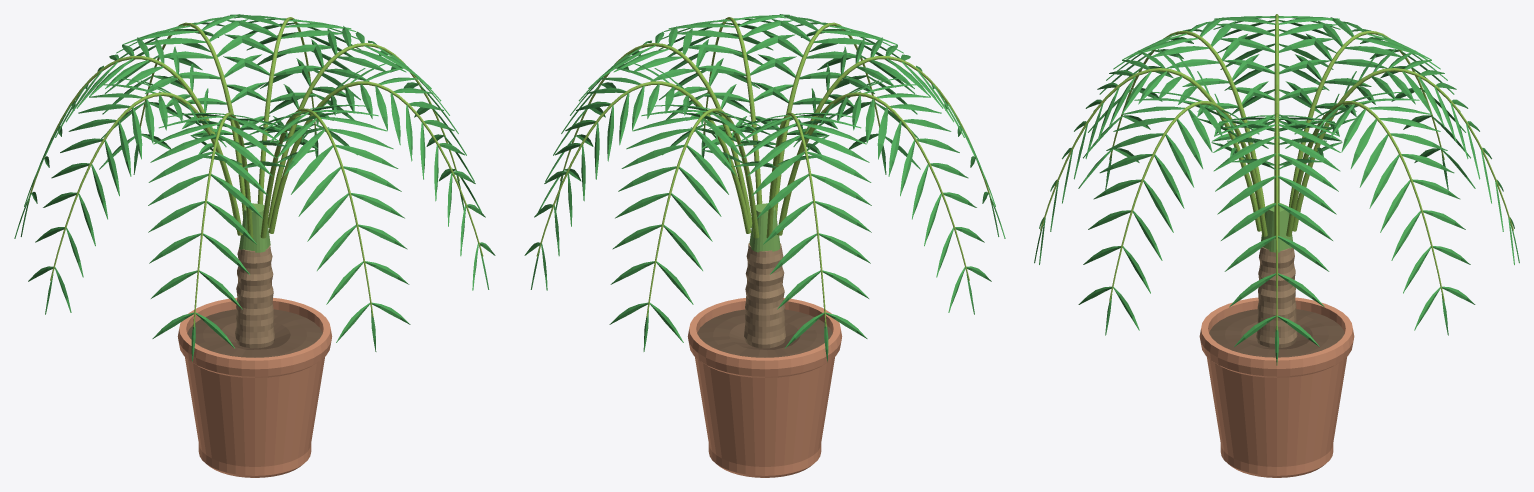
The picture shows the model from 3 angles, left to right: view 1: azimuth 30°, elevation 25°; view 2: azimuth 150°, elevation 25°; view 3: azimuth 270°, elevation 25°; orthographic projection.
Parts seen in each view (by area): view 1: Pot, FrondLeaflets_5, FrondLeaflets_6, FrondLeaflets_4, FrondLeaflets_1, FrondLeaflets_2, FrondLeaflets_7, Soil, Trunk, FrondLeaflets_0, FrondLeaflets_3, FrondStem_7 (+8 smaller); view 2: Pot, FrondLeaflets_3, FrondLeaflets_2, FrondLeaflets_4, FrondLeaflets_7, FrondLeaflets_6, Trunk, FrondLeaflets_1, Soil, FrondLeaflets_0, FrondLeaflets_5, FrondStem_1 (+8 smaller); view 3: Pot, FrondLeaflets_0, FrondLeaflets_7, FrondLeaflets_1, FrondLeaflets_4, FrondLeaflets_5, FrondLeaflets_3, Soil, Trunk, FrondLeaflets_6, FrondLeaflets_2, FrondStem_6 (+8 smaller).
Boxes of the visible parts, <box> form: Pot: <box>177,297,332,477</box>; FrondLeaflets_5: <box>148,112,286,361</box>; FrondLeaflets_6: <box>243,104,410,351</box>; FrondLeaflets_4: <box>28,78,226,314</box>; FrondLeaflets_1: <box>223,14,361,157</box>; FrondLeaflets_2: <box>99,14,270,174</box>; FrondLeaflets_7: <box>288,63,495,290</box>; Soil: <box>187,309,322,357</box>; Trunk: <box>235,245,274,348</box>; FrondLeaflets_0: <box>273,26,481,212</box>; FrondLeaflets_3: <box>14,37,221,238</box>; FrondStem_7: <box>268,81,483,256</box>; Pot: <box>687,298,842,477</box>; FrondLeaflets_3: <box>733,112,871,361</box>; FrondLeaflets_2: <box>609,104,776,351</box>; FrondLeaflets_4: <box>793,78,991,314</box>; FrondLeaflets_7: <box>658,14,796,157</box>; FrondLeaflets_6: <box>749,14,920,174</box>; Trunk: <box>744,243,785,348</box>; FrondLeaflets_1: <box>524,63,731,290</box>; Soil: <box>697,309,832,357</box>; FrondLeaflets_0: <box>538,26,746,211</box>; FrondLeaflets_5: <box>798,37,1005,238</box>; FrondStem_1: <box>536,81,751,256</box>; Pot: <box>1199,297,1354,477</box>; FrondLeaflets_0: <box>1213,115,1340,365</box>; FrondLeaflets_7: <box>1078,91,1275,335</box>; FrondLeaflets_1: <box>1278,91,1475,335</box>; FrondLeaflets_4: <box>1213,16,1340,143</box>; FrondLeaflets_5: <box>1078,17,1274,189</box>; FrondLeaflets_3: <box>1279,17,1475,189</box>; Soil: <box>1209,309,1344,357</box>; Trunk: <box>1256,247,1297,347</box>; FrondLeaflets_6: <box>1034,49,1236,264</box>; FrondLeaflets_2: <box>1317,49,1519,264</box>; FrondStem_6: <box>1040,68,1261,231</box>.
Bounding box in the file's own units: 0.6908 × 0.6085 × 0.6908.
